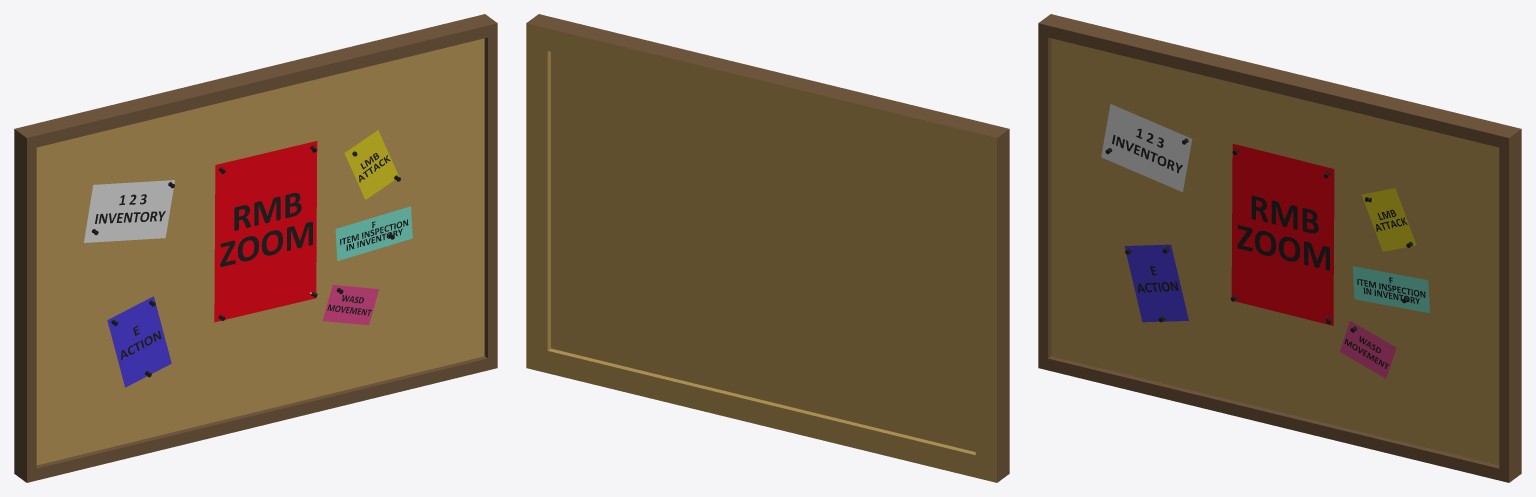
Rendered from NoteDesk.fbx.
The picture shows the model from 3 angles, left to right: view 1: azimuth 30°, elevation 25°; view 2: azimuth 150°, elevation 25°; view 3: azimuth 330°, elevation 25°; orthographic projection.
Parts seen in each view (by area): view 1: Cube, Plane.002, Plane.003, Plane.001, Plane.006, Text.010, Plane.005, Plane.004, Text.014, Text.015; view 2: Cube; view 3: Cube, Plane.002, Plane.003, Plane.001, Plane.006, Text.010, Plane.005, Plane.004, Text.015, Text.014.
Boxes of the visible parts, x1,y1,x2,y2 form: Cube: [14, 14, 497, 482]; Plane.002: [214, 141, 317, 322]; Plane.003: [84, 180, 174, 242]; Plane.001: [107, 296, 171, 387]; Plane.006: [335, 206, 412, 260]; Text.010: [220, 193, 312, 266]; Plane.005: [344, 130, 398, 199]; Plane.004: [322, 285, 379, 325]; Text.014: [95, 194, 165, 223]; Text.015: [340, 219, 408, 250]; Cube: [526, 14, 1009, 482]; Cube: [1038, 14, 1521, 482]; Plane.002: [1231, 143, 1334, 325]; Plane.003: [1101, 104, 1192, 192]; Plane.001: [1124, 244, 1188, 322]; Plane.006: [1353, 266, 1429, 313]; Text.010: [1237, 195, 1329, 270]; Plane.005: [1362, 188, 1416, 251]; Plane.004: [1339, 321, 1396, 378]; Text.015: [1357, 277, 1425, 304]; Text.014: [1112, 128, 1182, 173].
Size of the model in its own units: 2 by 1.4 by 0.0994.
